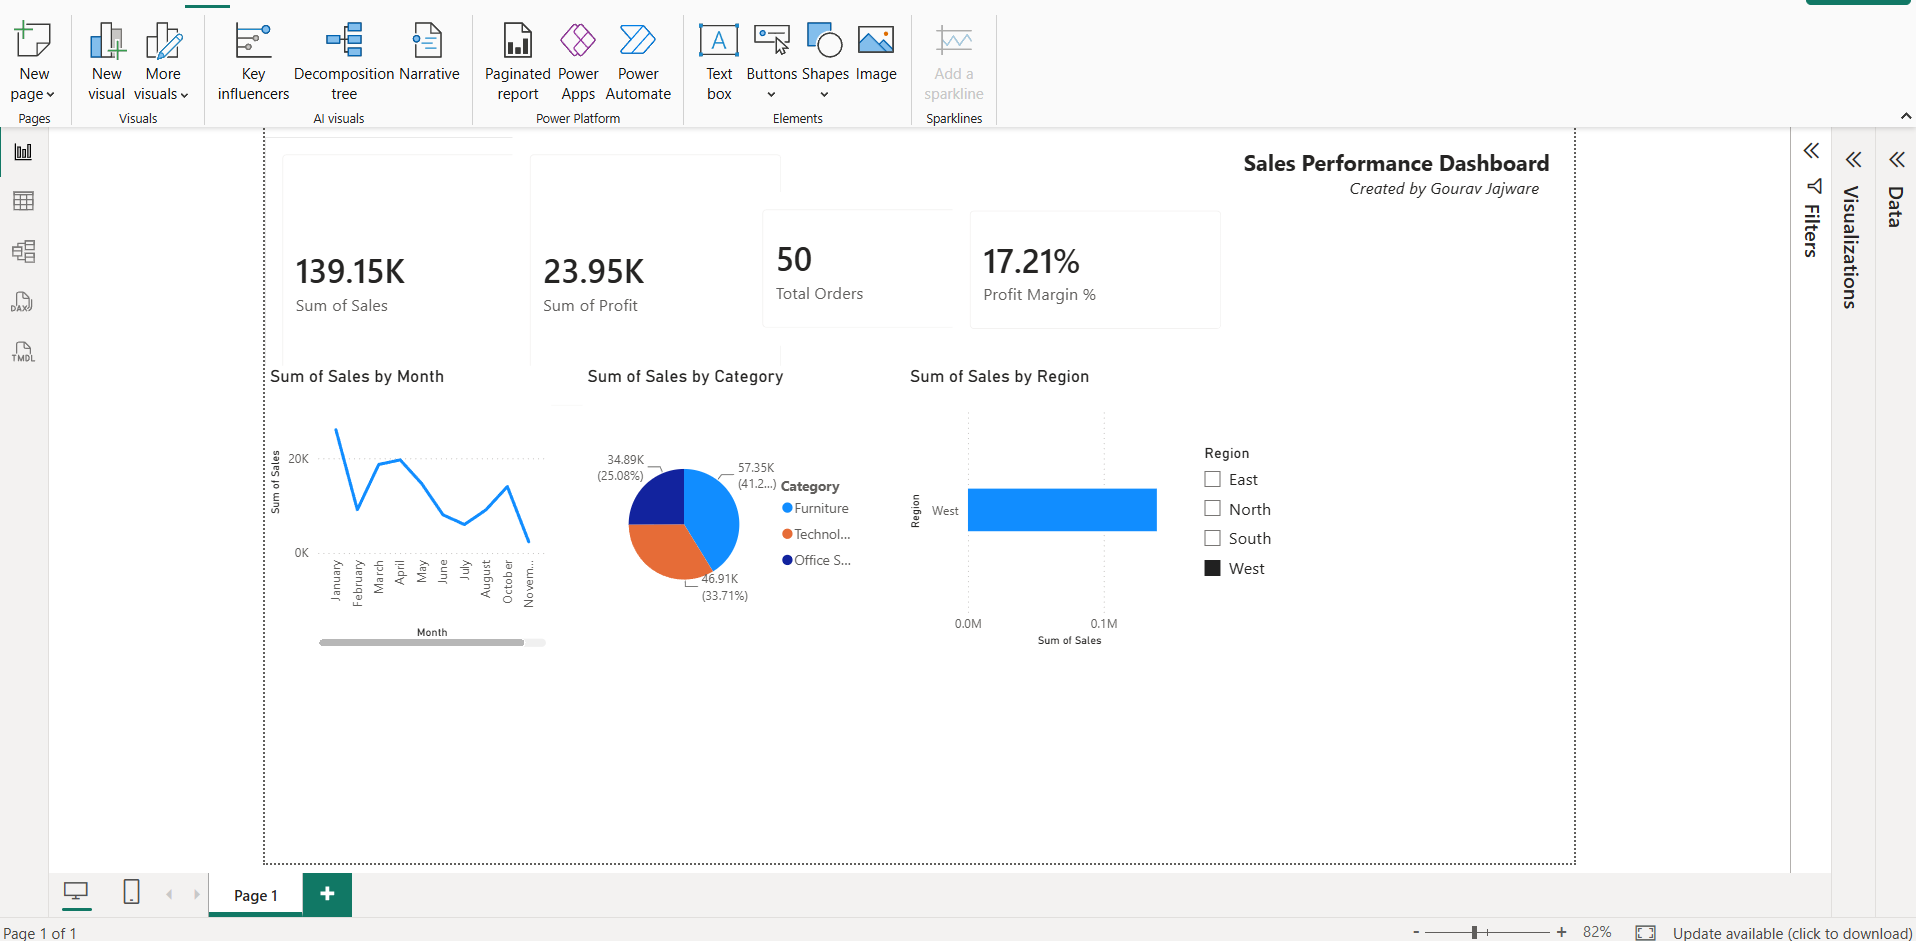

What the dashboard file says about the page in this screenshot:
{"tool":"powerbi","page":{"name":"Page 1","canvas":[1280,720],"ordinal":0},"visuals":[{"type":"cardVisual","fields":{"Data":["Sum(Orders.Sales)"]},"box":[0,9.6,280,280],"z":0},{"type":"cardVisual","fields":{"Data":["Sum(Orders.Profit)"]},"box":[241.5,9.6,280,280],"z":1},{"type":"lineChart","fields":{"Category":["Orders.Order Date.Variation.Date Hierarchy.Month"],"Y":["Sum(Orders.Sales)"]},"box":[0,233.3,280,280],"z":3},{"type":"clusteredBarChart","fields":{"Category":["Orders.Region"],"Y":["Sum(Orders.Sales)"]},"box":[625.7,233.3,280,280],"z":4},{"type":"cardVisual","fields":{"Data":["Orders.Total Orders"]},"box":[469.3,63.1,280,150],"z":5},{"type":"cardVisual","fields":{"Data":["Orders.Profit Margin %"]},"box":[675.1,53.5,280,150],"z":6},{"type":"pieChart","fields":{"Category":["Orders.Category"],"Y":["Sum(Orders.Sales)"]},"box":[310.1,233.3,280,280],"z":7},{"type":"textbox","box":[952.6,15.1,327.7,145.5],"z":8},{"type":"slicer","fields":{"Values":["Orders.Region"]},"box":[873.3,303.8,290.9,153.7],"z":9}]}

Visuals, with their boxes on the page's 1280x720 design canvas (x1, y1, x2, y2). These are canvas units, not pixel positions in the 1916x941 screenshot, which may show the page scaled, cropped or inside an application window:
cardVisual - Sum(Orders.Sales): select_region(0, 10, 280, 290)
cardVisual - Sum(Orders.Profit): select_region(242, 10, 522, 290)
lineChart - Orders.Order Date.Variation.Date Hierarchy.Month x Sum(Orders.Sales): select_region(0, 233, 280, 513)
clusteredBarChart - Orders.Region x Sum(Orders.Sales): select_region(626, 233, 906, 513)
cardVisual - Orders.Total Orders: select_region(469, 63, 749, 213)
cardVisual - Orders.Profit Margin %: select_region(675, 54, 955, 204)
pieChart - Orders.Category x Sum(Orders.Sales): select_region(310, 233, 590, 513)
textbox: select_region(953, 15, 1280, 161)
slicer - Orders.Region: select_region(873, 304, 1164, 458)
